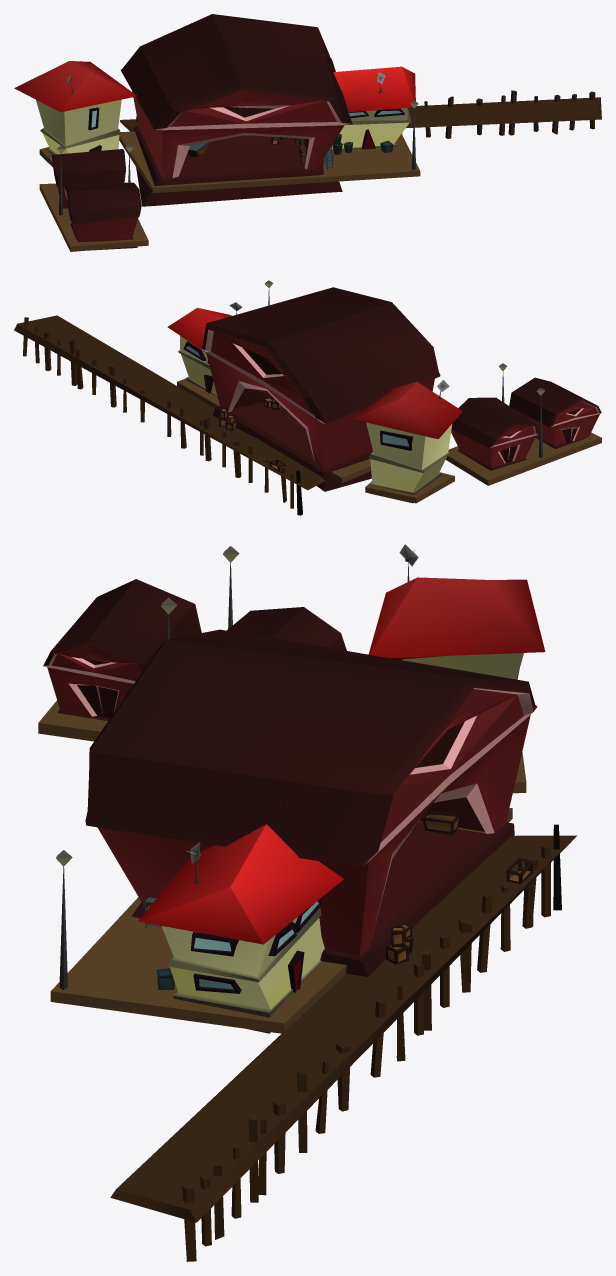
Rendered from e_barns.fbx.
3 views of the same model, one above another, from view 1: azimuth 30°, elevation 25°; view 2: azimuth 150°, elevation 25°; view 3: azimuth 270°, elevation 25° (orthographic). The views are drawn at different scales.
Visible parts, largest first — view 1: e_barns; view 2: e_barns; view 3: e_barns.
Part boxes in pixels (x1,y1,x2,y2): e_barns: (14,14,601,251); e_barns: (14,280,601,515); e_barns: (38,544,576,1261).
Size of the model in its own units: 75.95 by 18.71 by 31.87.
